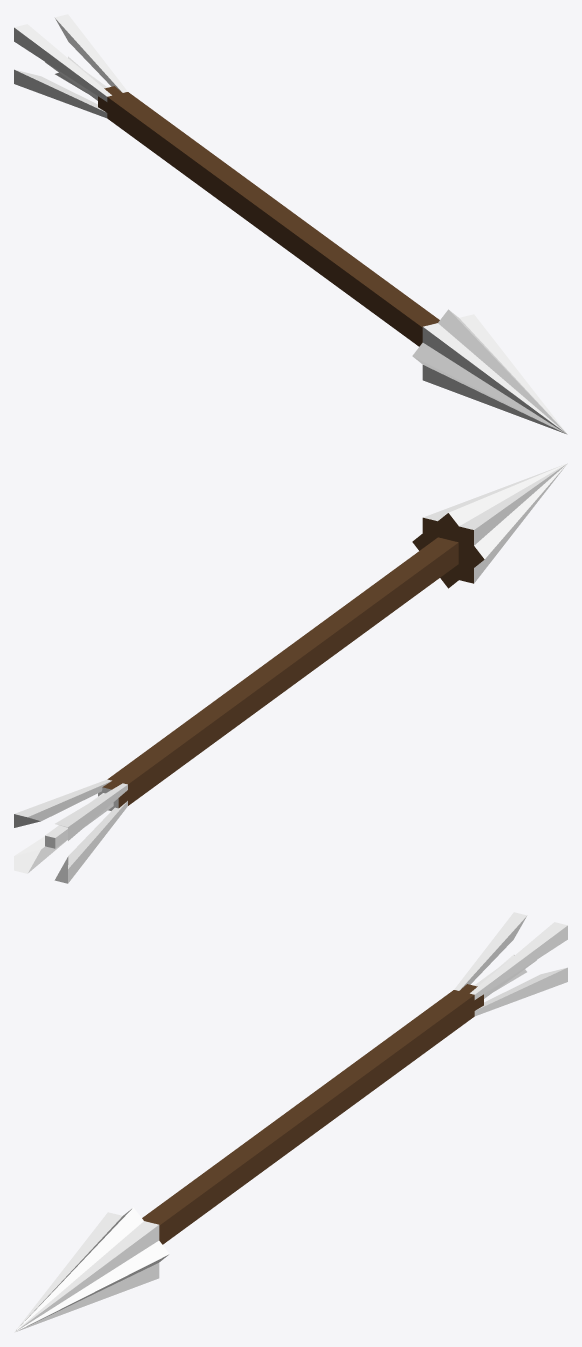
Rendered from Arrow.fbx.
3 views of the same model, one above another, from view 1: azimuth 30°, elevation 25°; view 2: azimuth 150°, elevation 25°; view 3: azimuth 330°, elevation 25° (orthographic).
Visible parts, largest first — view 1: Arrow; view 2: Arrow; view 3: Arrow.
Part boxes in pixels (x1=…): Arrow: x1=14, y1=14, x2=567, y2=434; Arrow: x1=14, y1=463, x2=567, y2=883; Arrow: x1=14, y1=912, x2=567, y2=1332.
Size of the model in its own units: 3.52 by 3.52 by 44.3.
